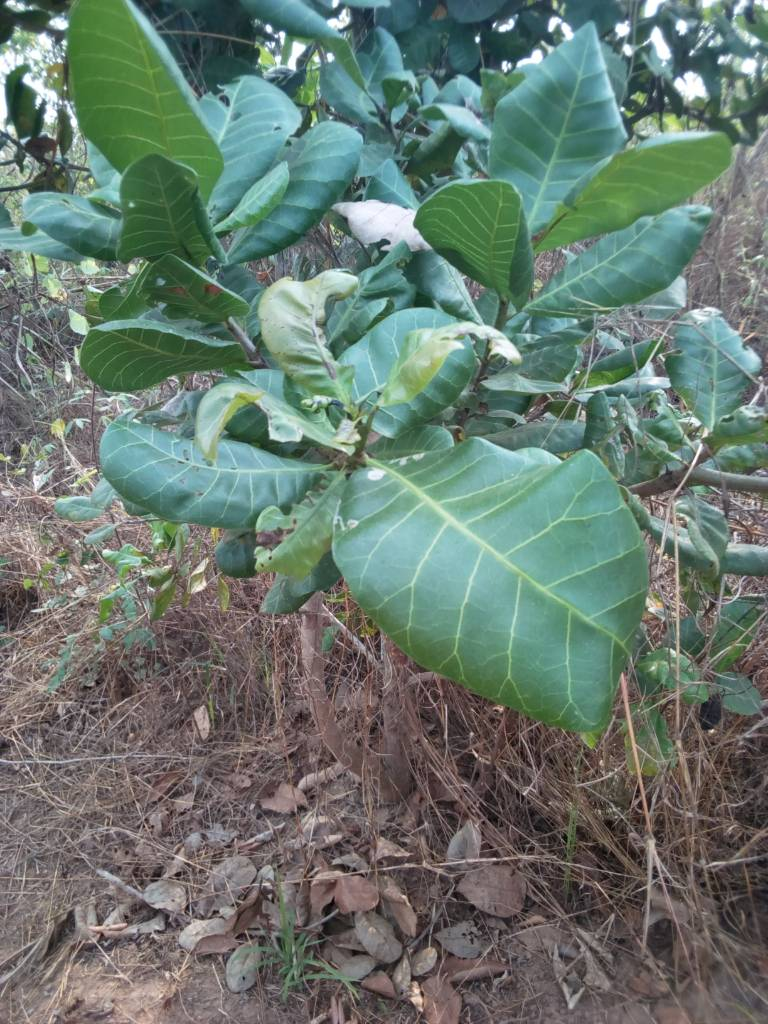Helopeltis anacardii: (344, 453, 650, 738), (94, 416, 332, 521), (549, 135, 736, 241), (427, 185, 543, 296), (374, 321, 518, 410), (186, 380, 349, 453), (263, 272, 350, 403), (115, 157, 229, 255), (99, 258, 241, 317)
